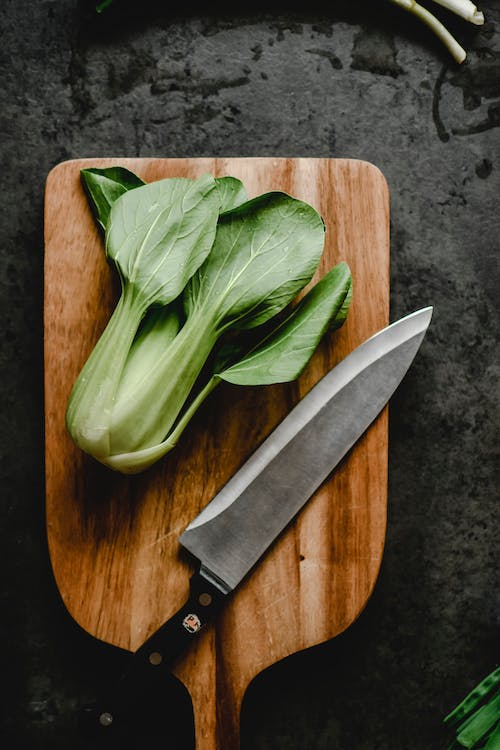knife: (62, 301, 437, 750)
